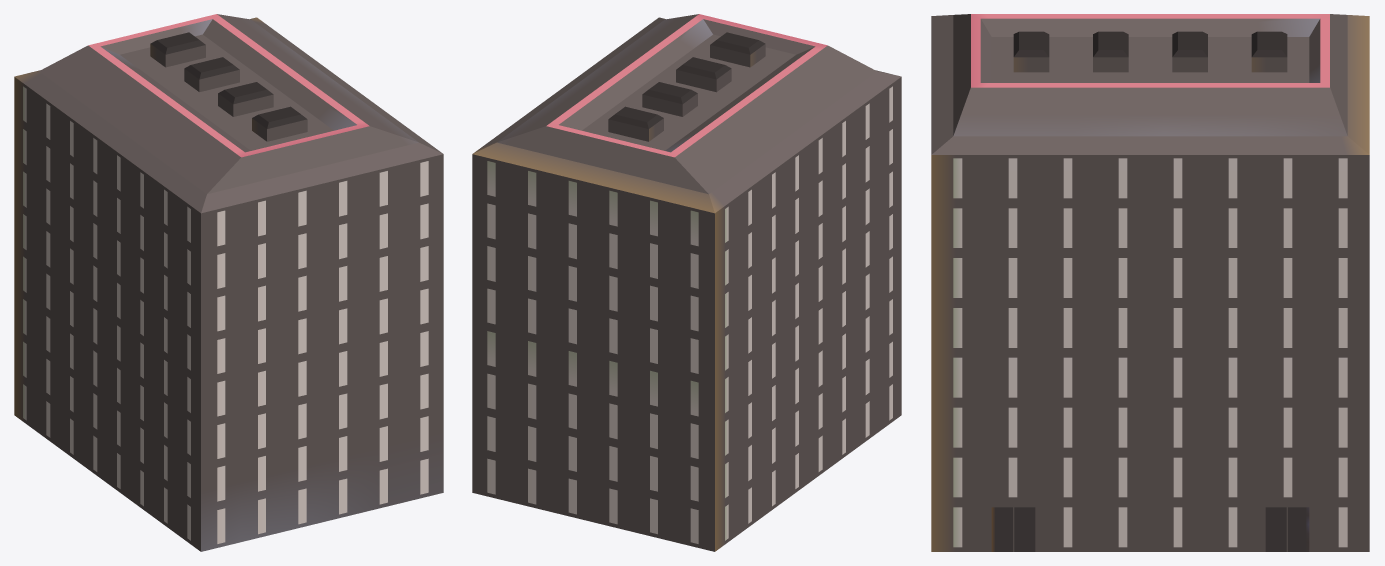
The model's file is res-d.fbx.
3 views of the same model, side by side, from view 1: azimuth 30°, elevation 25°; view 2: azimuth 150°, elevation 25°; view 3: azimuth 270°, elevation 25° (orthographic). The views are drawn at different scales.
Visible parts, largest first — view 1: structure, glass; view 2: structure, glass; view 3: structure, glass.
Part boxes in pixels (x1,y1,x2,y2): structure: (14,14,443,551); glass: (23,86,428,543); structure: (472,14,901,551); glass: (487,86,892,543); structure: (931,14,1369,551); glass: (953,158,1347,547).
Bounding box in the file's own units: 301 × 445 × 402.
